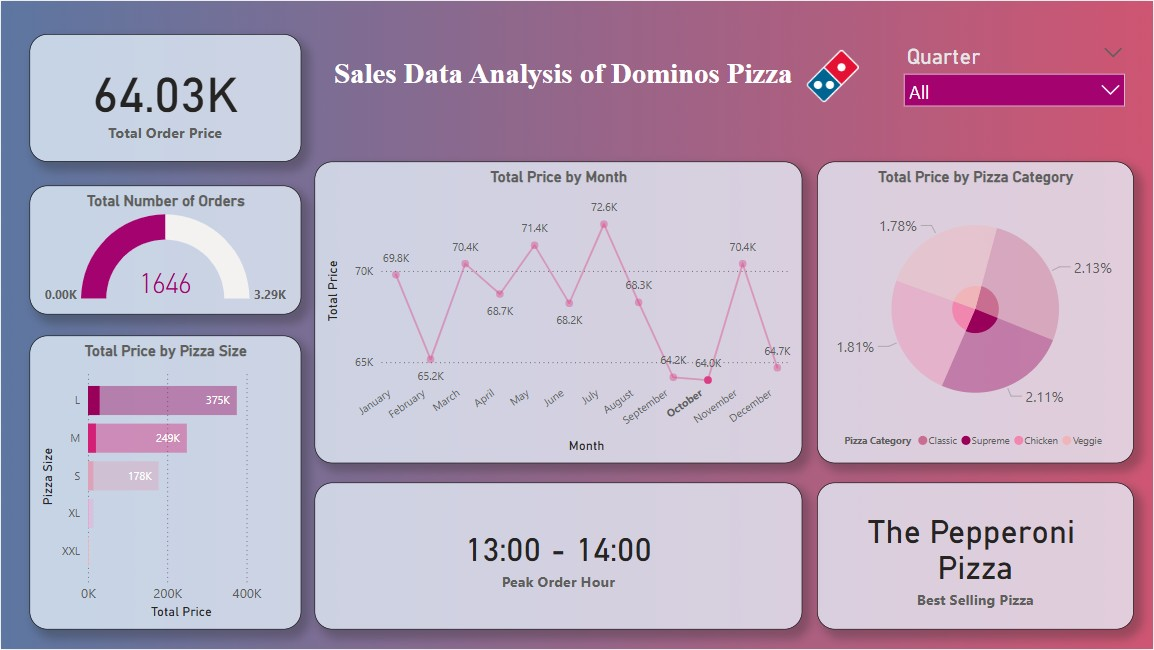

Layout of this report page (visuals, bound fields, positions):
{"tool":"powerbi","page":{"name":"Page 1","canvas":[1280,720],"ordinal":0},"visuals":[{"type":"card","fields":{"Values":["Sum(pizza_sales.total_price)"]},"box":[31.7,36.7,301.7,141.7],"z":0},{"type":"pieChart","fields":{"Y":["Sum(pizza_sales.total_price)"],"Category":["pizza_sales.pizza_category"]},"box":[906.7,178.3,351.7,335],"z":1000},{"type":"lineChart","fields":{"Category":["pizza_sales.order_date.Variation.Date Hierarchy.Month"],"Y":["Sum(pizza_sales.total_price)"]},"box":[348.3,178.3,541.7,335],"z":2000},{"type":"slicer","fields":{"Values":["pizza_sales.order_date.Variation.Date Hierarchy.Quarter"]},"box":[993.3,41.7,265,83.3],"z":3000},{"type":"barChart","fields":{"Category":["pizza_sales.pizza_size"],"Y":["Sum(pizza_sales.total_price)"]},"box":[31.7,371.7,301.7,326.7],"z":4000},{"type":"card","fields":{"Values":["pizza_sales.Best Selling Pizza"]},"box":[906.7,535,351.7,163.3],"z":5000},{"type":"card","fields":{"Values":["pizza_sales.Peak Order Hour"]},"box":[348.3,535,541.7,163.3],"z":6000},{"type":"gauge","fields":{"Y":["Count(pizza_sales.order_id)"]},"box":[31.7,205,301.7,143.3],"z":7000},{"type":"textbox","box":[365,56.7,541.7,53.3],"z":8000},{"type":"image","box":[890,48.3,68.3,70],"z":9000}]}

Visuals, with their boxes in screenshot pixels (x1, y1, x2, y2), scaled from the page's 1280x720 canvas onto the 1154x650 screenshot:
card - Sum(pizza_sales.total_price): 29, 33, 301, 161
pieChart - Sum(pizza_sales.total_price) x pizza_sales.pizza_category: 817, 161, 1135, 463
lineChart - pizza_sales.order_date.Variation.Date Hierarchy.Month x Sum(pizza_sales.total_price): 314, 161, 802, 463
slicer - pizza_sales.order_date.Variation.Date Hierarchy.Quarter: 896, 38, 1134, 113
barChart - pizza_sales.pizza_size x Sum(pizza_sales.total_price): 29, 336, 301, 630
card - pizza_sales.Best Selling Pizza: 817, 483, 1135, 630
card - pizza_sales.Peak Order Hour: 314, 483, 802, 630
gauge - Count(pizza_sales.order_id): 29, 185, 301, 314
textbox: 329, 51, 817, 99
image: 802, 44, 864, 107
